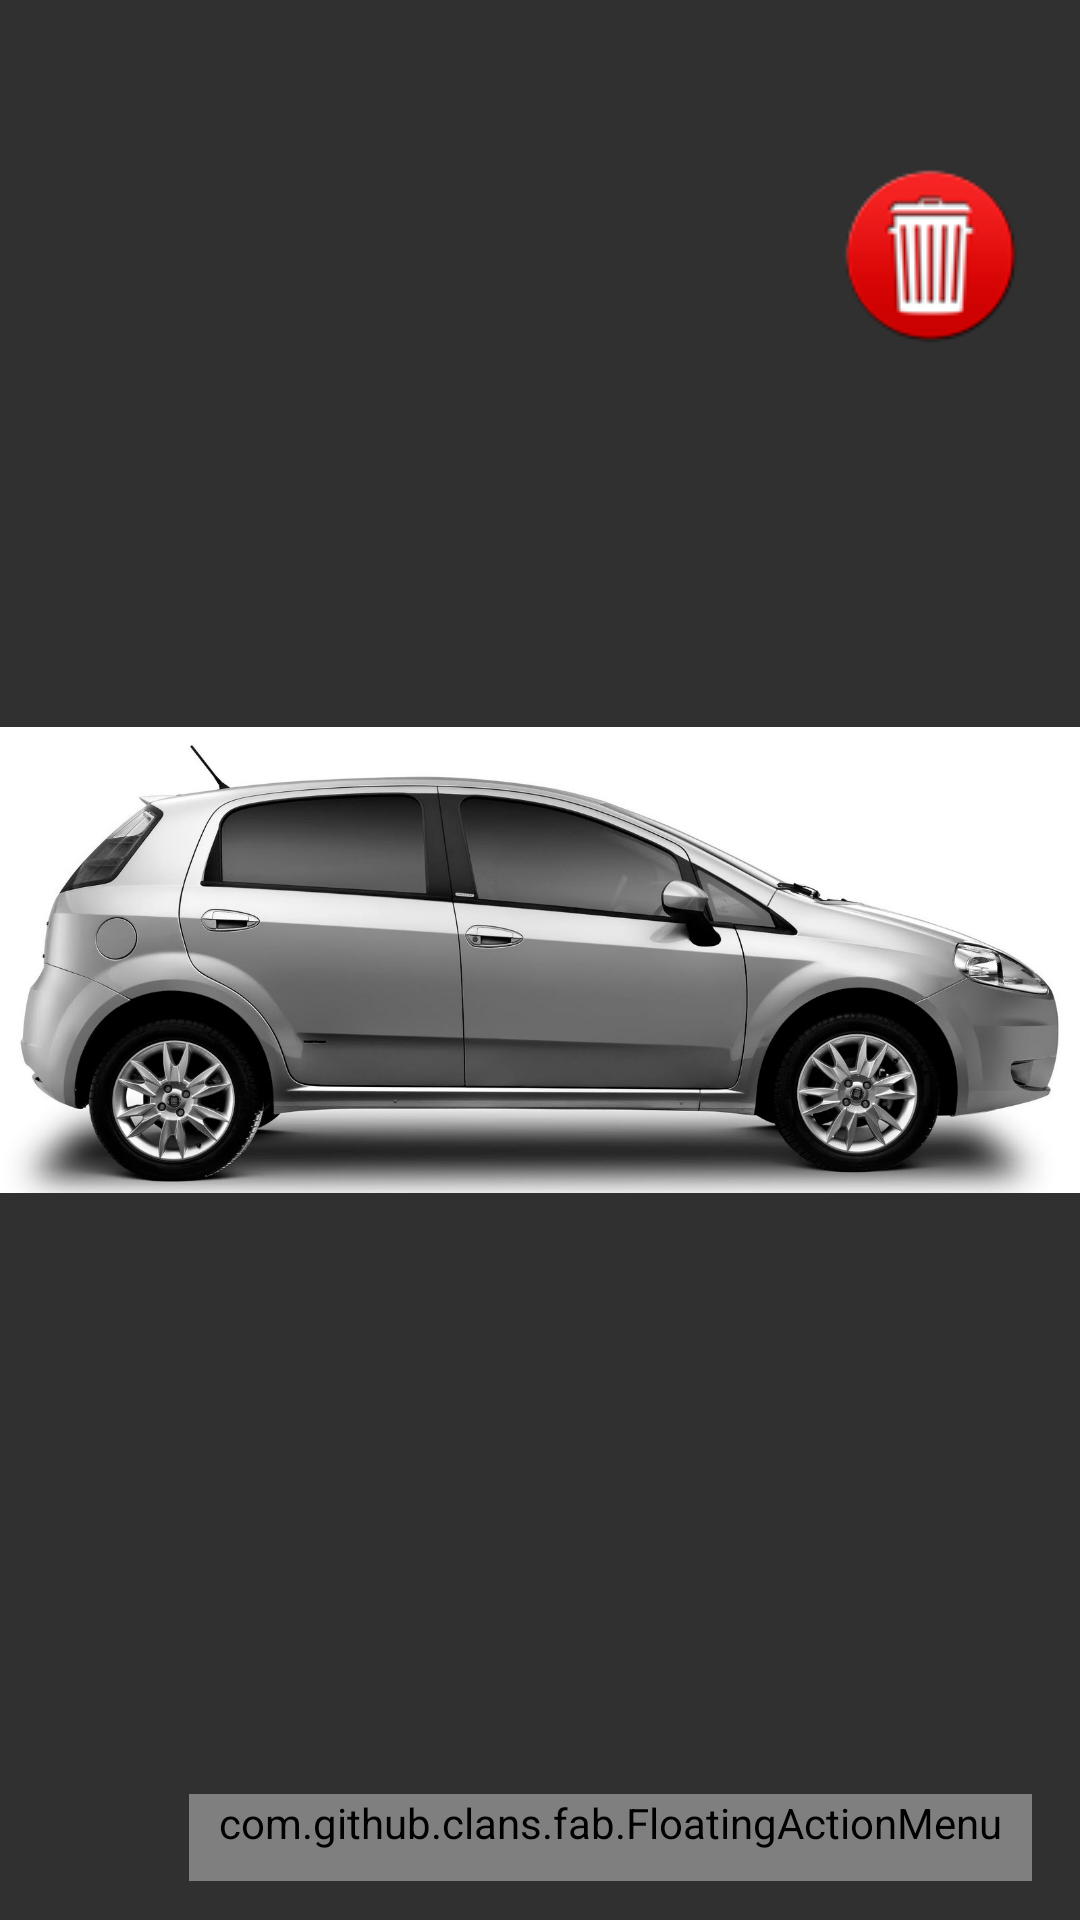

Locate icon controls on the screen. Image size 1080×1920, boxes as bbox=[x1, y1, x2, y2].
trash close: bbox=[845, 170, 1015, 340]
